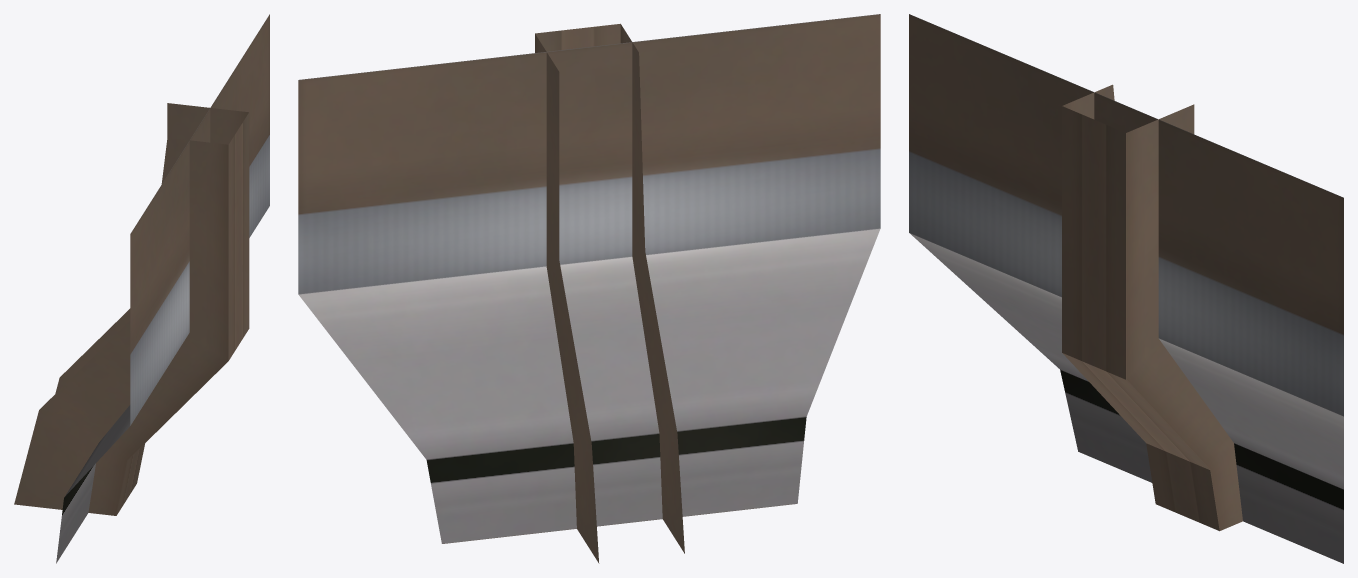
File: tng_angled_corridor_diag_a_top_split.obj
3 views of the same model, side by side, from view 1: azimuth 30°, elevation 25°; view 2: azimuth 150°, elevation 25°; view 3: azimuth 270°, elevation 25° (orthographic). The views are drawn at different scales.
Visible parts, largest first — view 1: corridor_corner_a_top_split_Cube.025; view 2: corridor_corner_a_top_split_Cube.025; view 3: corridor_corner_a_top_split_Cube.025.
Part boxes in pixels (box(x1,y1,x2,y2)): corridor_corner_a_top_split_Cube.025: box(14, 14, 269, 563); corridor_corner_a_top_split_Cube.025: box(298, 14, 880, 563); corridor_corner_a_top_split_Cube.025: box(909, 14, 1343, 563).
Bounding box in the file's own units: 0.9 × 1 × 0.9.
